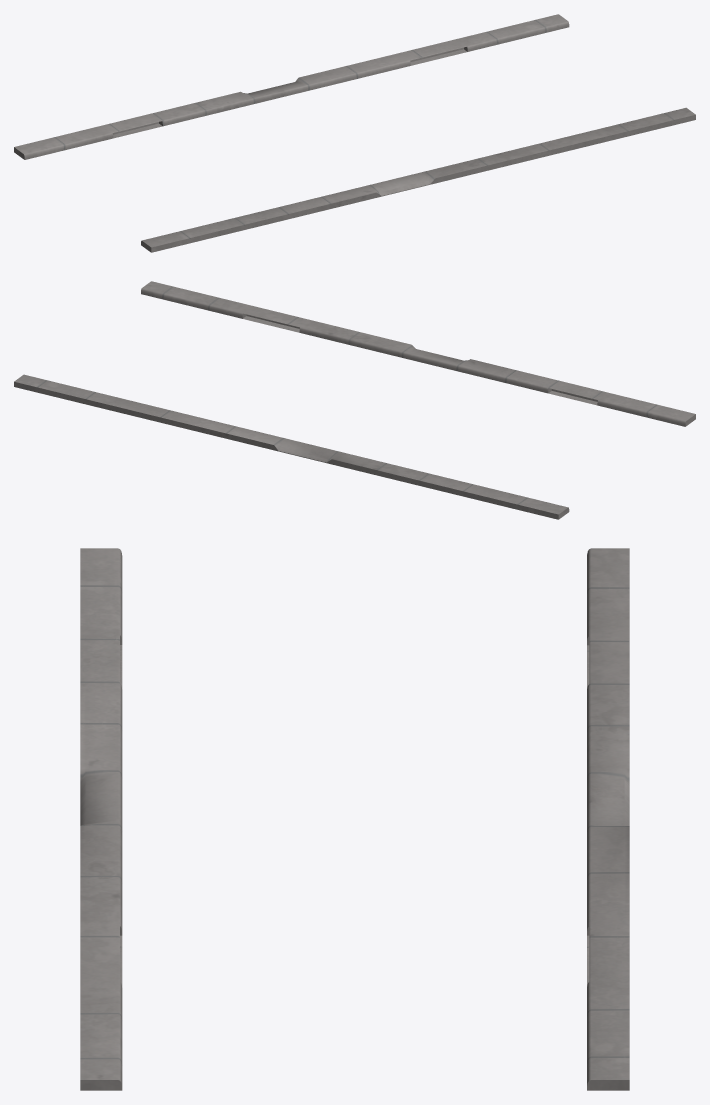
Rendered from Long_SideWalks_W_Slopes_Sewer.fbx.
3 views of the same model, one above another, from view 1: azimuth 30°, elevation 25°; view 2: azimuth 150°, elevation 25°; view 3: azimuth 270°, elevation 25° (orthographic). The views are drawn at different scales.
Visible parts, largest first — view 1: Long_SideWalks_W_Slopes_Sewer; view 2: Long_SideWalks_W_Slopes_Sewer; view 3: Long_SideWalks_W_Slopes_Sewer.
Part boxes in pixels (bbox=[...]): Long_SideWalks_W_Slopes_Sewer: bbox=[14, 14, 695, 252]; Long_SideWalks_W_Slopes_Sewer: bbox=[14, 281, 695, 519]; Long_SideWalks_W_Slopes_Sewer: bbox=[80, 548, 629, 1090].
Size of the model in its own units: 1299 by 568 by 11.97.
